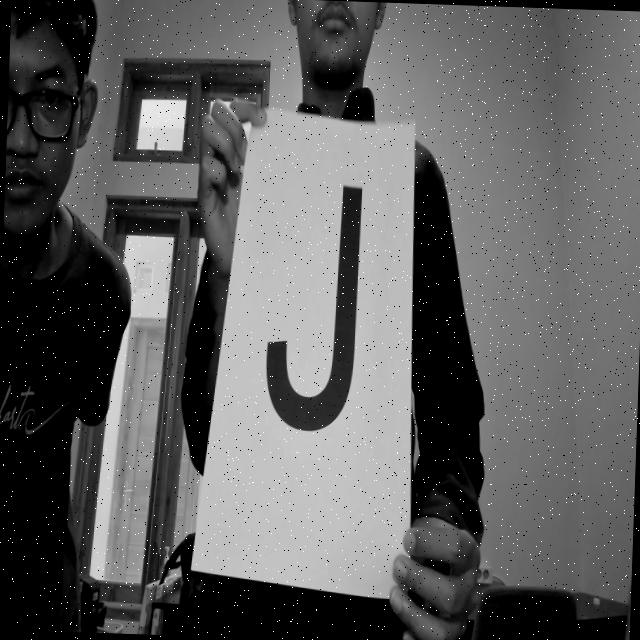j: (250, 168, 395, 454)
